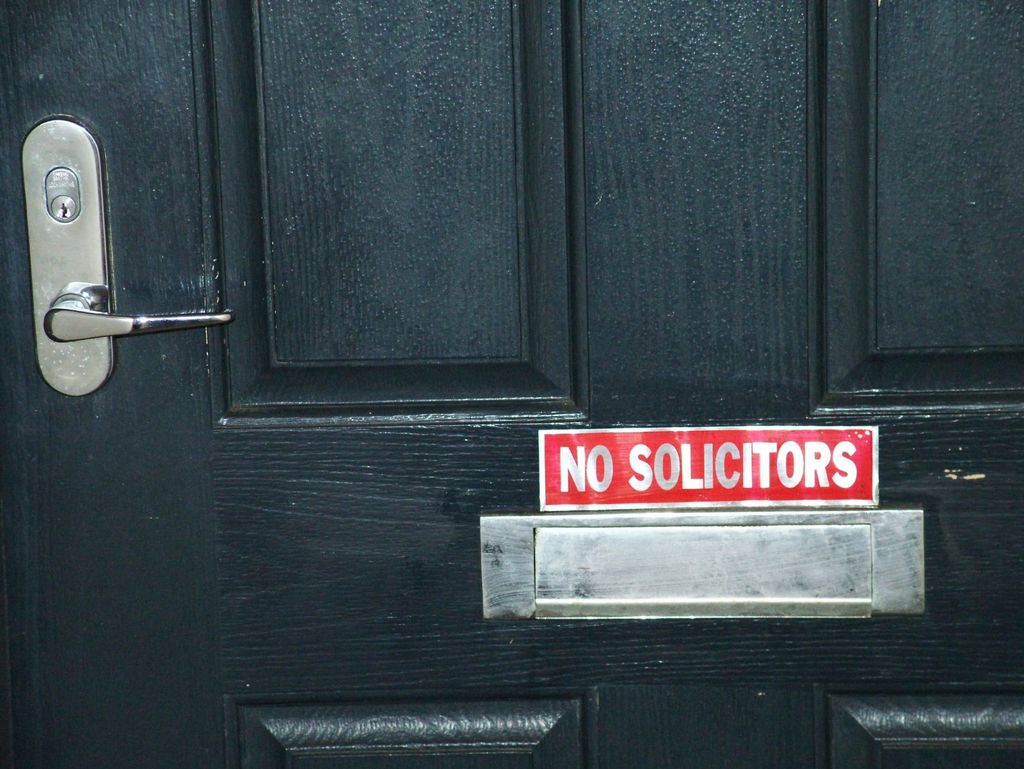door: (26, 37, 1006, 746)
handle: (56, 277, 238, 357)
